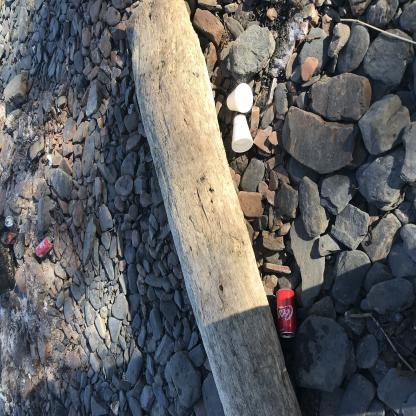trash: (193, 301, 227, 346), (55, 364, 100, 397), (227, 300, 251, 342)
